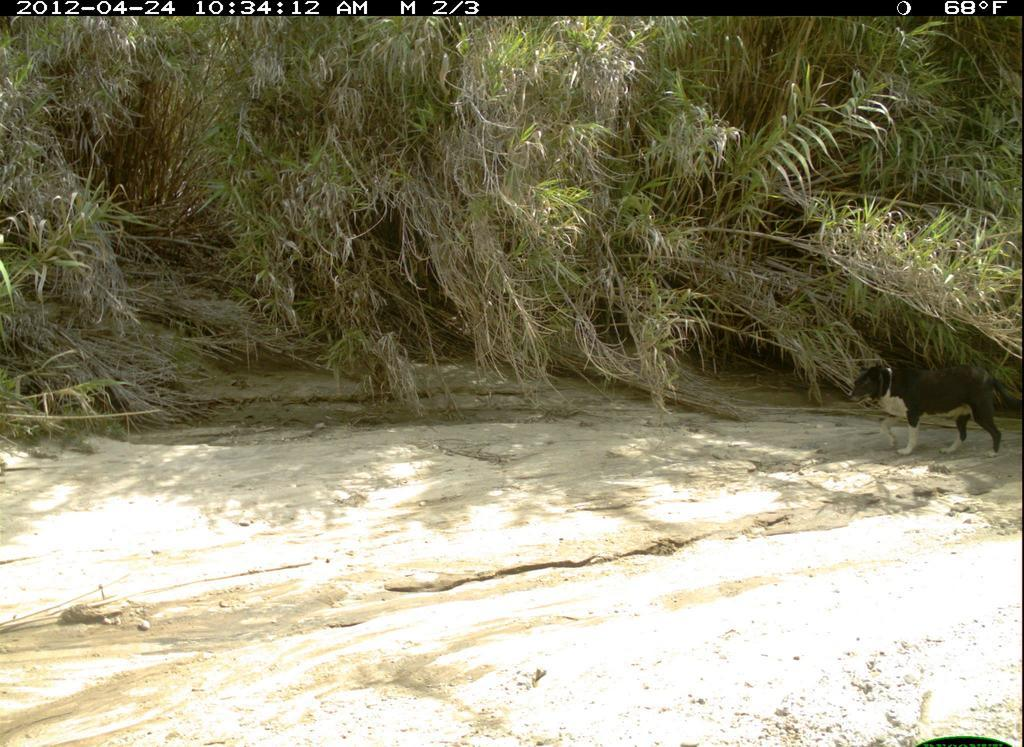dog: (839, 350, 1022, 472)
